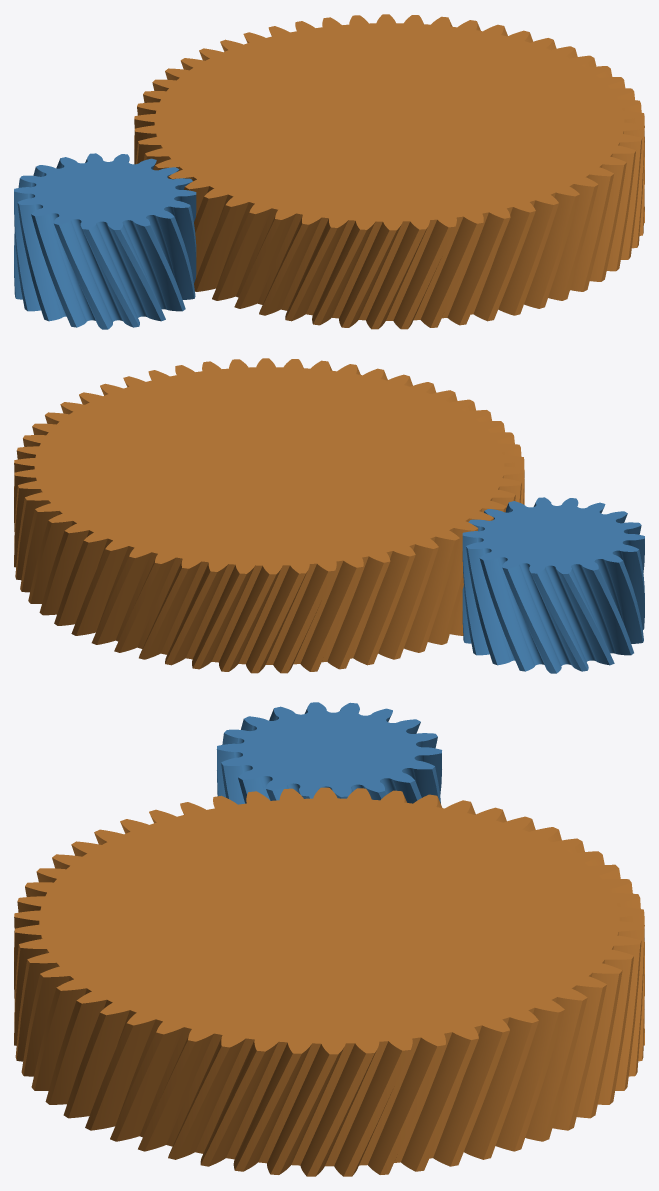
The model's file is helical_gear_pair.glb.
3 renders of one model, top to bottom at view 1: azimuth 30°, elevation 25°; view 2: azimuth 150°, elevation 25°; view 3: azimuth 270°, elevation 25°, orthographic. The views are drawn at different scales.
Parts seen in each view (by area): view 1: Helical_Gear, Helical_Pinion; view 2: Helical_Gear, Helical_Pinion; view 3: Helical_Gear, Helical_Pinion.
Part boxes in pixels (<box>): Helical_Gear: <box>134,14,644,329</box>; Helical_Pinion: <box>14,153,196,329</box>; Helical_Gear: <box>14,358,524,673</box>; Helical_Pinion: <box>462,497,644,673</box>; Helical_Gear: <box>14,787,644,1176</box>; Helical_Pinion: <box>216,702,441,804</box>.
Bounding box in the file's own units: 402 × 65.18 × 304.
